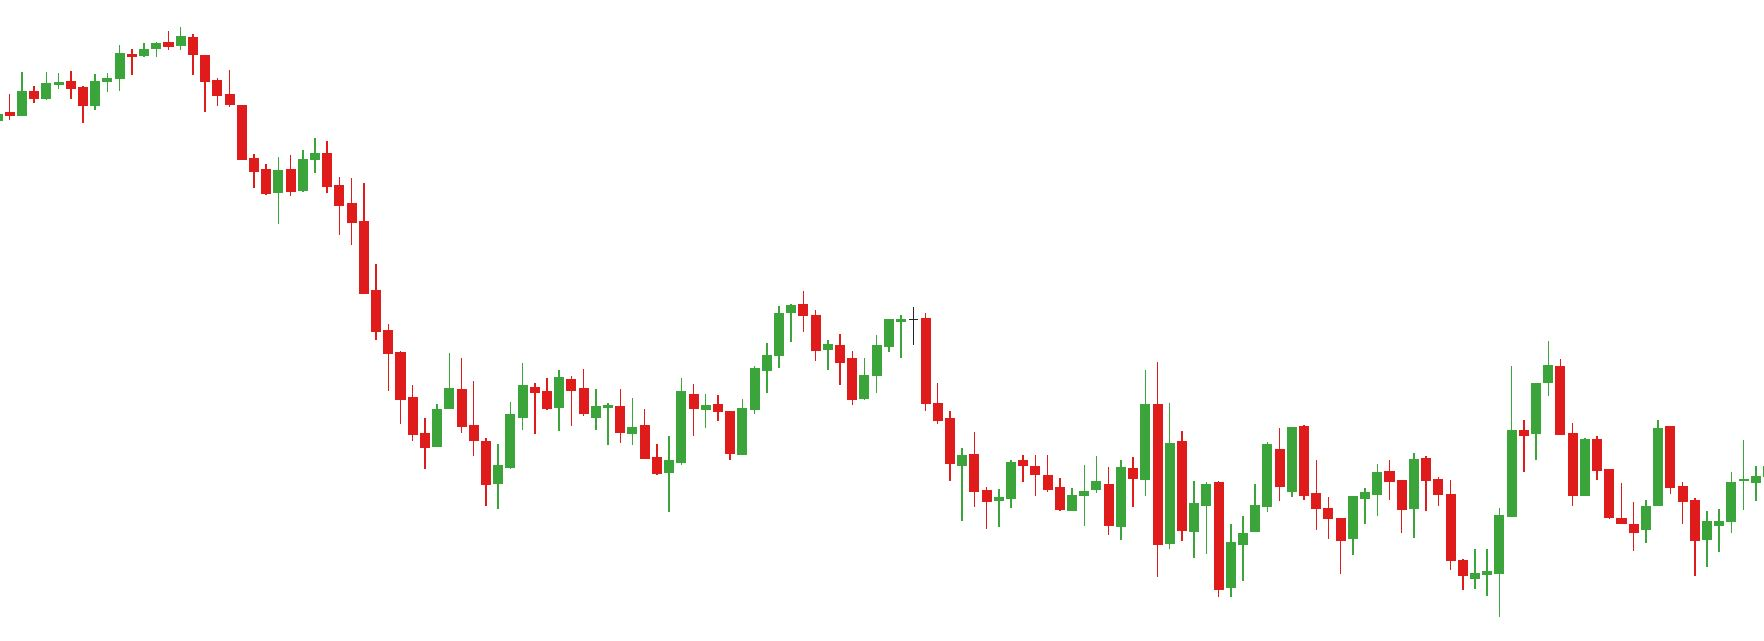buy: (1334, 503, 1493, 603), (1629, 464, 1713, 581), (418, 405, 506, 511)
